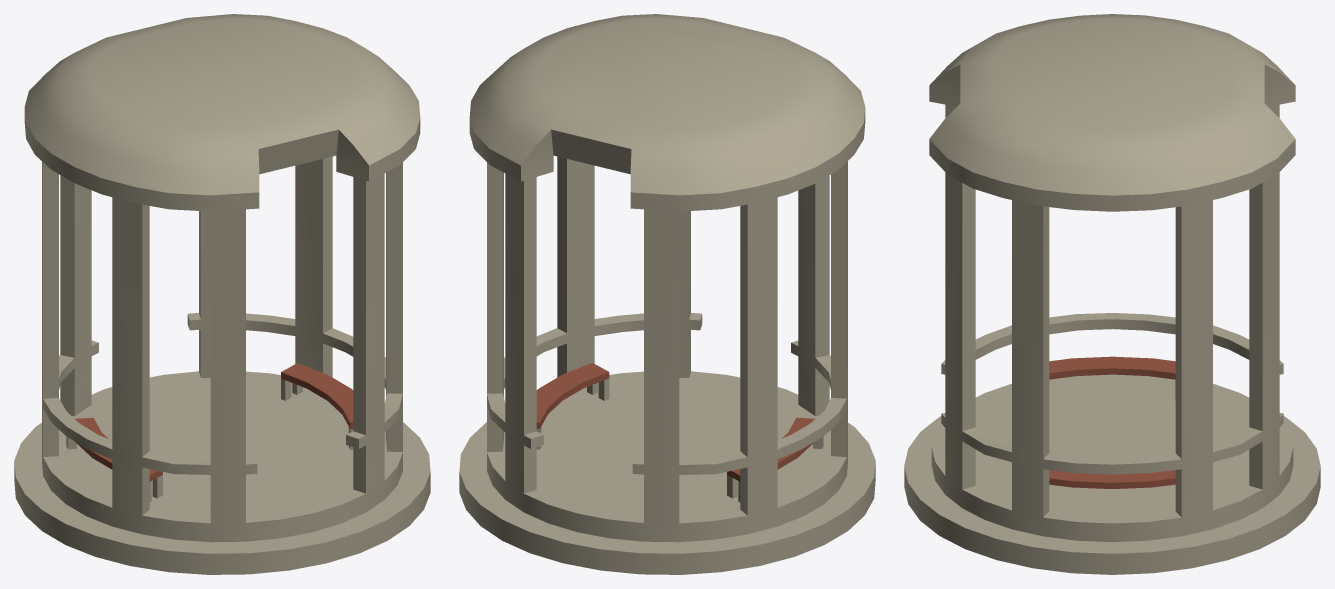
The model's file is gazebo.fbx.
3 views of the same model, side by side, from view 1: azimuth 30°, elevation 25°; view 2: azimuth 150°, elevation 25°; view 3: azimuth 270°, elevation 25° (orthographic).
Parts seen in each view (by area): view 1: Cylinder.001; view 2: Cylinder.001; view 3: Cylinder.001.
Part boxes in pixels (x1,y1,x2,y2): Cylinder.001: (14, 14, 430, 574); Cylinder.001: (459, 14, 875, 574); Cylinder.001: (904, 14, 1320, 574).
Size of the model in its own units: 5.5 by 6 by 5.5.
